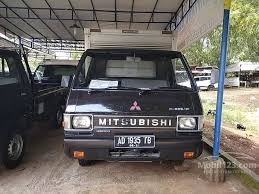plate: (114, 135, 155, 149)
